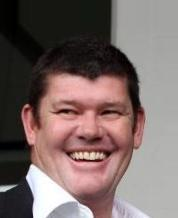face: (54, 101, 122, 170)
